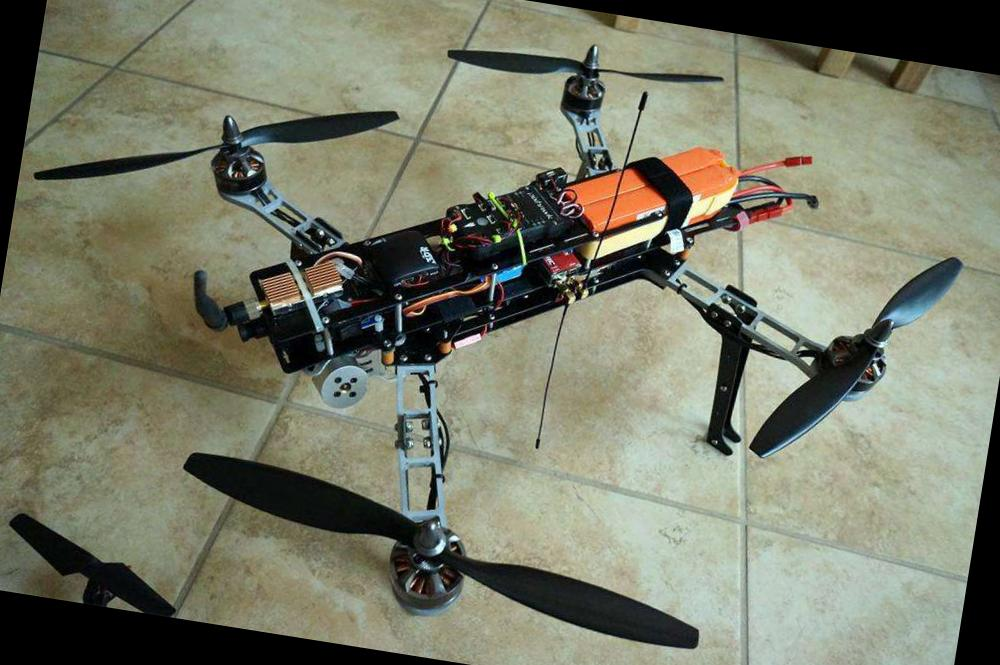drone: (23, 0, 1000, 665)
